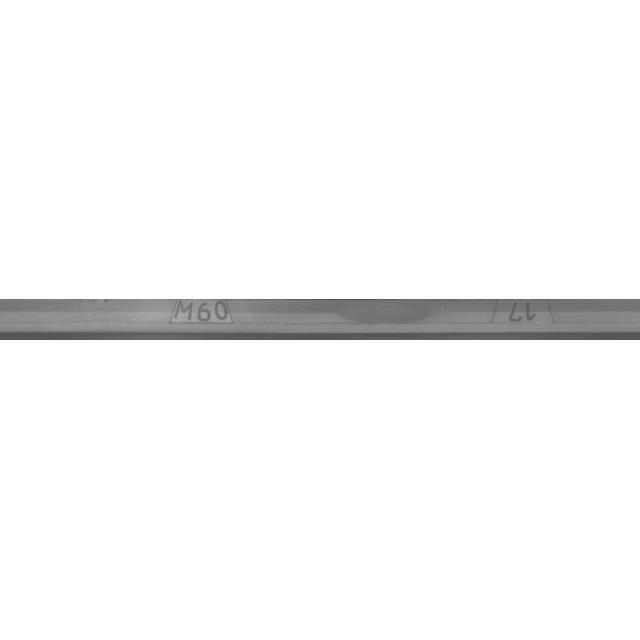mohao: (102, 270, 302, 370)
xuehao: (423, 270, 623, 370)
